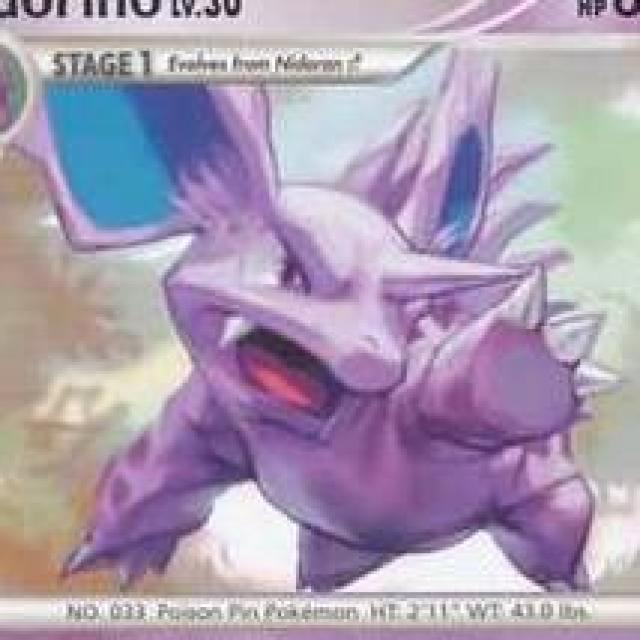Nidorino: (141, 81, 593, 576)
